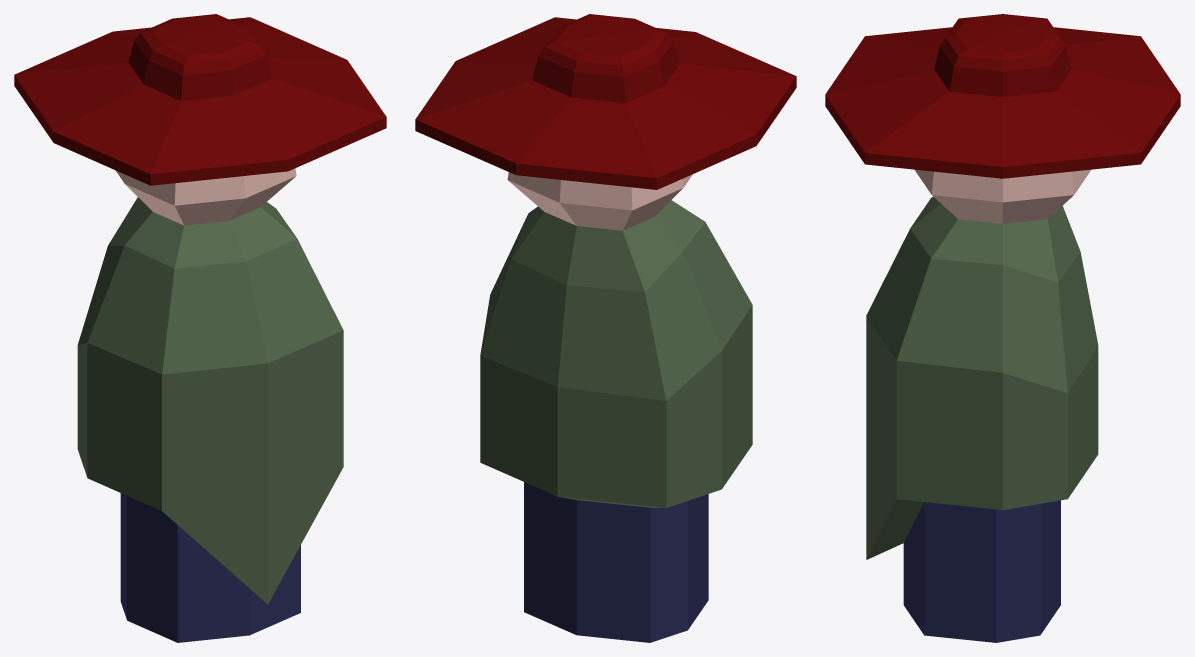
Rendered from Character4.fbx.
3 renders of one model, left to right at view 1: azimuth 30°, elevation 25°; view 2: azimuth 150°, elevation 25°; view 3: azimuth 270°, elevation 25°, orthographic. The views are drawn at different scales.
Visible parts, largest first — view 1: pCube41; view 2: pCube41; view 3: pCube41.
Part boxes in pixels (x1,y1,x2,y2): pCube41: [14, 14, 386, 642]; pCube41: [415, 14, 796, 642]; pCube41: [825, 14, 1180, 642].
Size of the model in its own units: 0.5693 by 1.05 by 0.5889.
